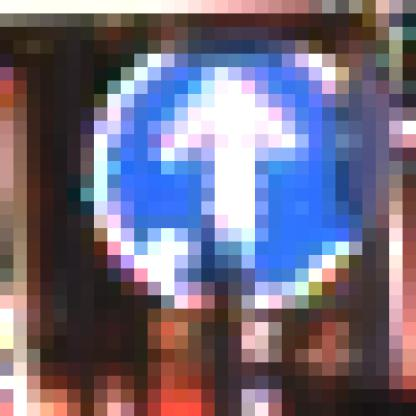AheadOnly: (82, 68, 337, 337)
